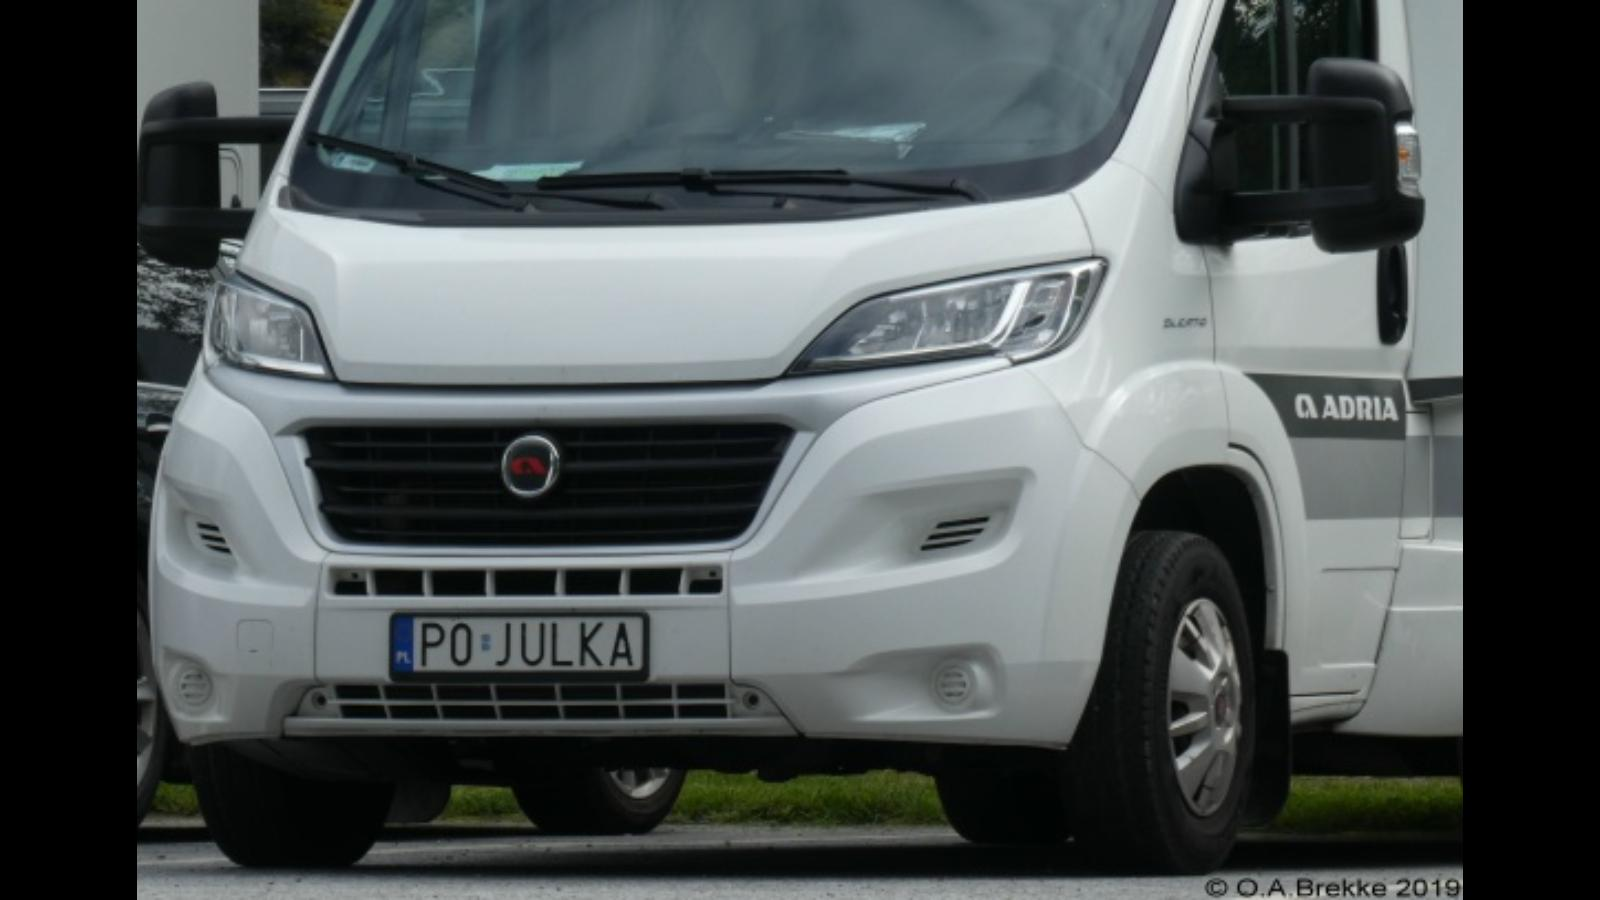plates: (389, 612, 649, 680)
